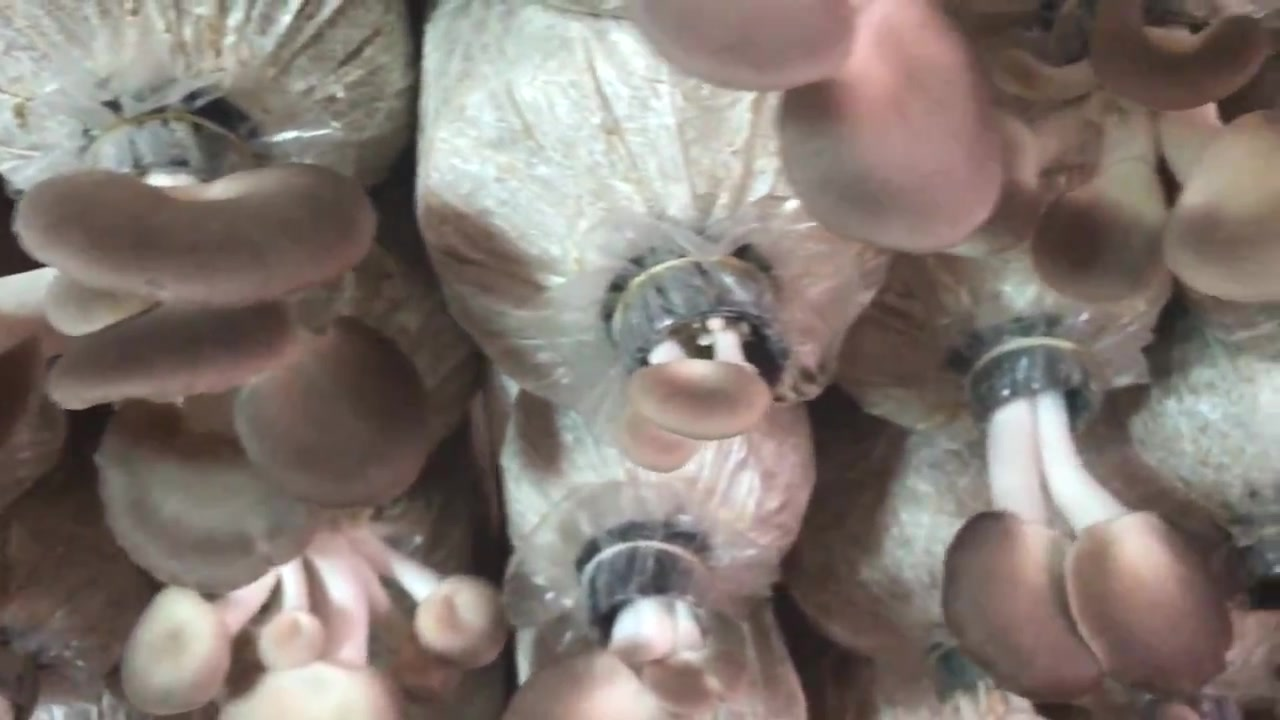nam: (18, 117, 430, 585), (943, 346, 1227, 699), (635, 1, 1000, 249), (996, 12, 1280, 305), (126, 521, 505, 720), (509, 538, 738, 720), (617, 260, 798, 471)
